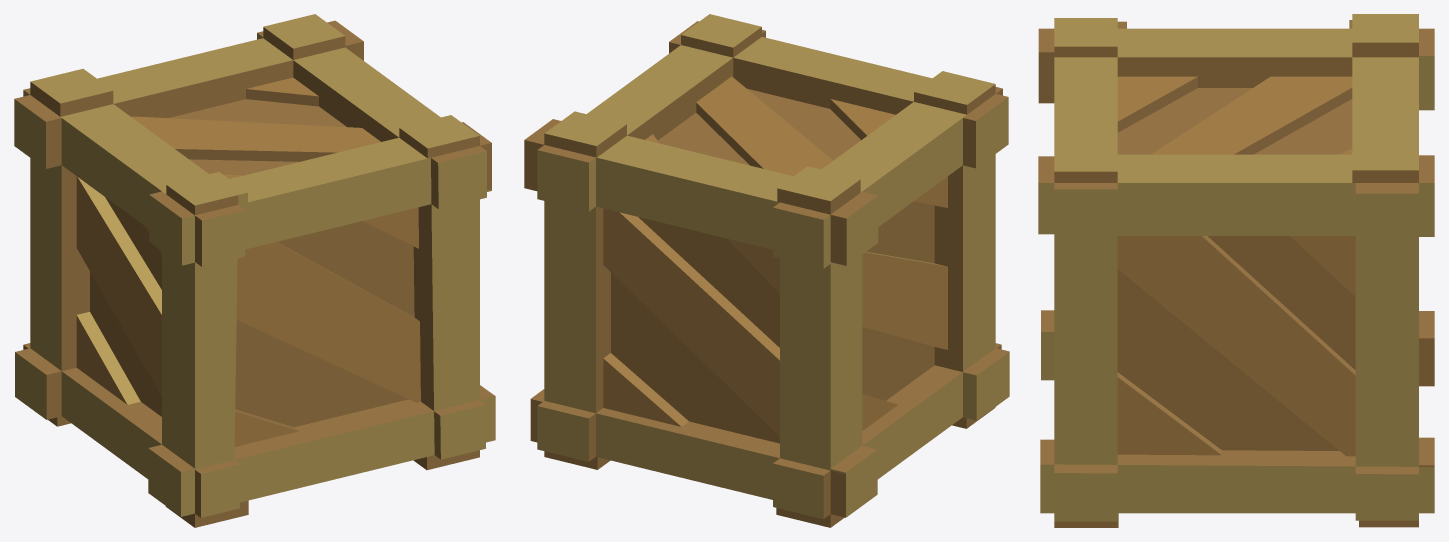
3 renders of one model, left to right at view 1: azimuth 30°, elevation 25°; view 2: azimuth 150°, elevation 25°; view 3: azimuth 270°, elevation 25°, orthographic. The views are drawn at different scales.
Parts seen in each view (by area): view 1: Box; view 2: Box; view 3: Box.
Boxes of the visible parts, box(x1,y1,x2,y2) form: Box: box(14, 14, 495, 527); Box: box(524, 14, 1009, 527); Box: box(1038, 14, 1434, 527).
Size of the model in its own units: 1.13 by 1.09 by 1.09.
